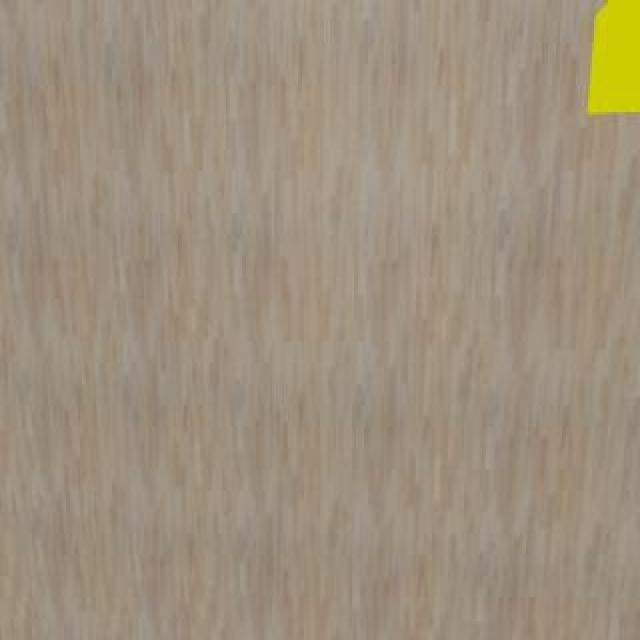cube-cAb5: (578, 0, 640, 123)
